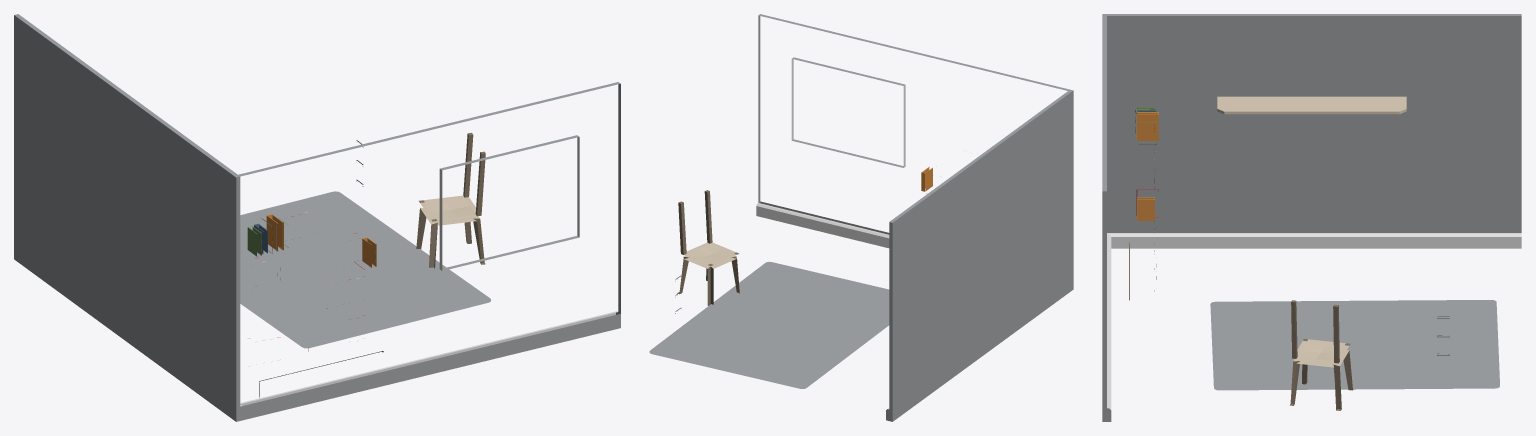
The model's file is object_7_lev1.glb.
3 views of the same model, side by side, from view 1: azimuth 30°, elevation 25°; view 2: azimuth 150°, elevation 25°; view 3: azimuth 270°, elevation 25° (orthographic). The views are drawn at different scales.
Parts seen in each view (by area): view 1: object_7_lev1; view 2: object_7_lev1; view 3: object_7_lev1.
Boxes of the visible parts, bbox=[...] form: object_7_lev1: bbox=[14, 14, 620, 421]; object_7_lev1: bbox=[649, 14, 1073, 421]; object_7_lev1: bbox=[1102, 14, 1521, 421].
Size of the model in its own units: 28 by 17 by 28.
1 material, 1 textured.
